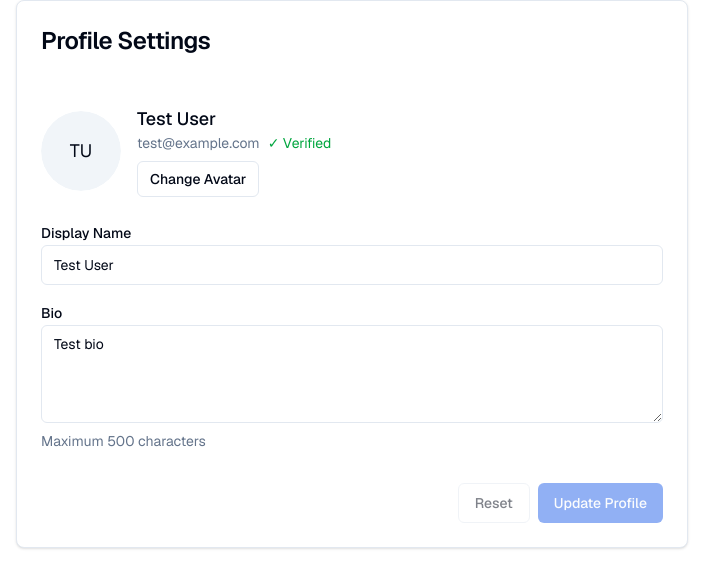
ProfileForm Component › should reset form to original values
The width and height of the screenshot is (705, 566).
Replace the text in the field labelled "Display Name" with "Changed Name" at (352, 265), box [41, 245, 663, 285]
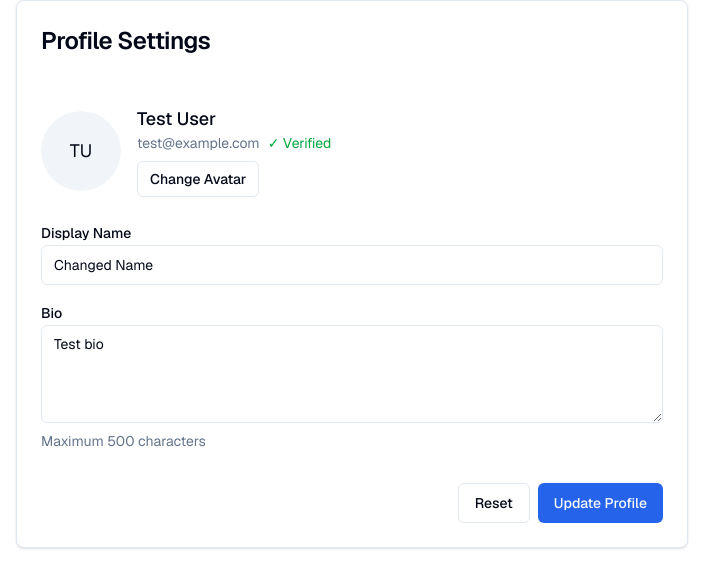
Click the button "Reset".
click(494, 503)  # box [458, 483, 530, 523]
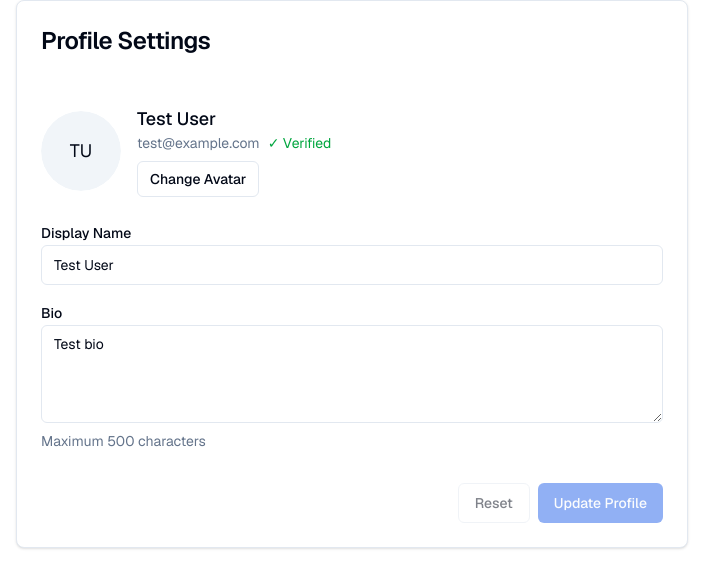
Expected: the field labelled "Display Name" holds "Test User", [41, 245, 663, 285]
